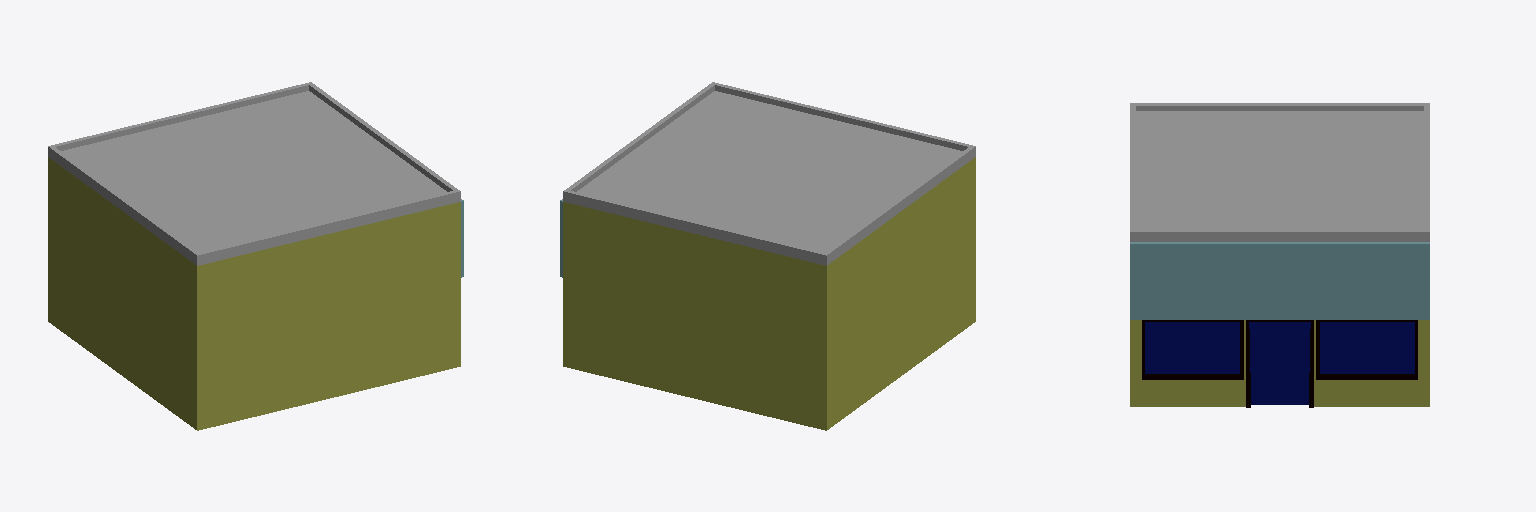
The model's file is crtshsp1.obj.
3 renders of one model, left to right at view 1: azimuth 30°, elevation 25°; view 2: azimuth 150°, elevation 25°; view 3: azimuth 270°, elevation 25°, orthographic.
Visible parts, largest first — view 1: Cube.046_Cube.072, Cube.045_Cube.071; view 2: Cube.046_Cube.072, Cube.045_Cube.071; view 3: Cube.045_Cube.071, Cube.044_Cube.070, Cube.046_Cube.072, Cube.041_Cube.067.
Part boxes in pixels (bbox=[...]): Cube.046_Cube.072: bbox=[48, 157, 460, 430]; Cube.045_Cube.071: bbox=[48, 82, 460, 265]; Cube.046_Cube.072: bbox=[563, 157, 975, 430]; Cube.045_Cube.071: bbox=[563, 82, 975, 265]; Cube.045_Cube.071: bbox=[1130, 103, 1429, 241]; Cube.044_Cube.070: bbox=[1130, 242, 1429, 319]; Cube.046_Cube.072: bbox=[1130, 320, 1429, 406]; Cube.041_Cube.067: bbox=[1142, 320, 1417, 407].
Bounding box in the file's own units: 3.96 × 2.48 × 3.84.